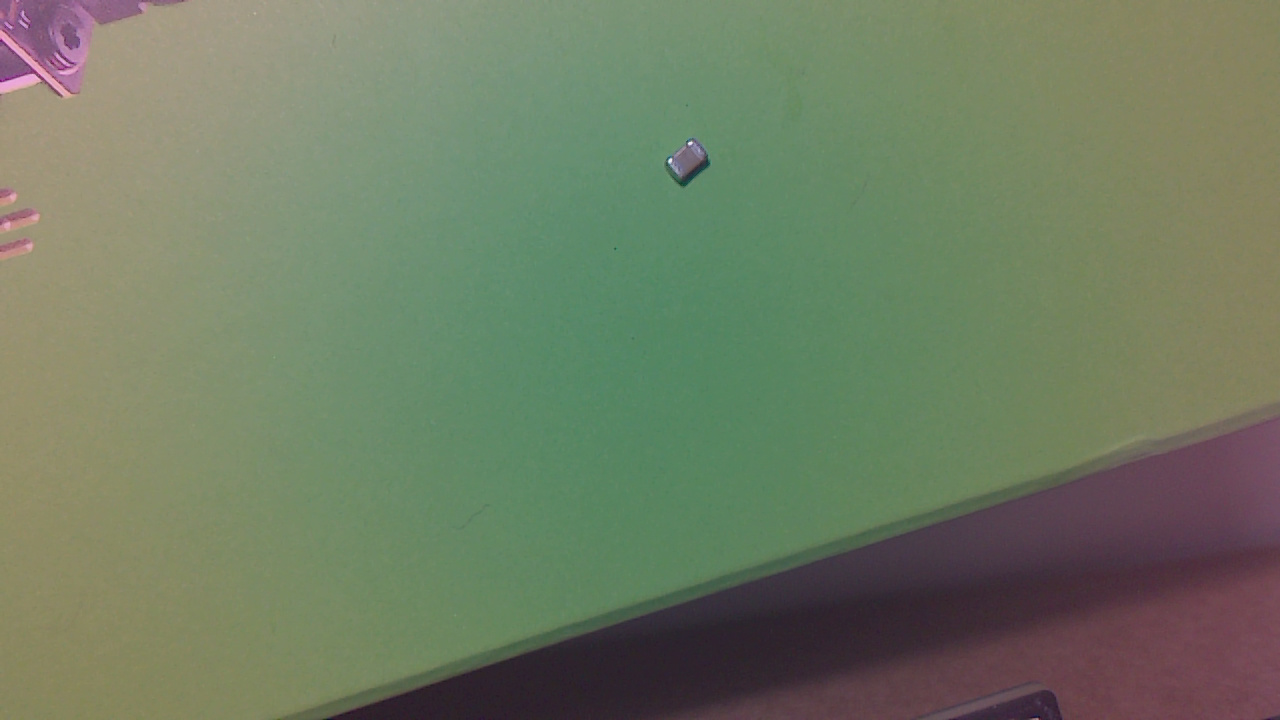Condensator: (669, 136, 715, 191)
